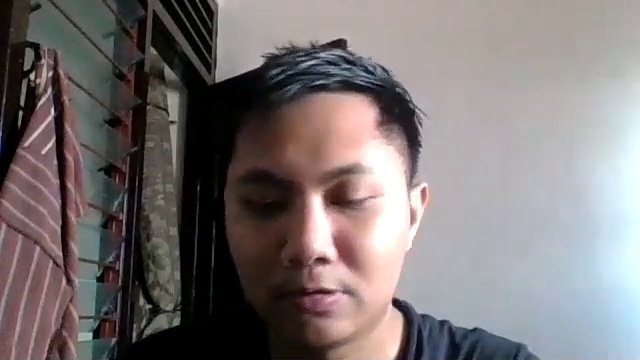Distracted: (221, 94, 426, 344)
